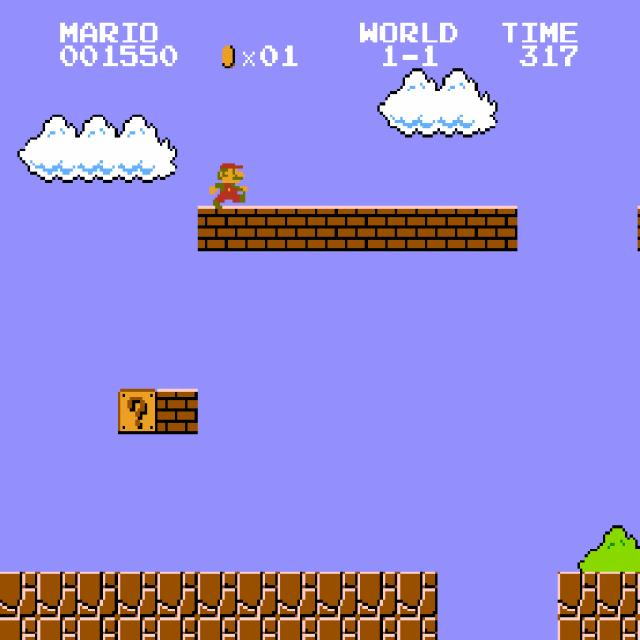brick_block: (157, 389, 198, 434), (197, 206, 238, 251), (237, 206, 278, 251), (277, 206, 318, 251), (317, 206, 358, 251), (357, 206, 398, 251), (397, 206, 438, 251), (437, 206, 478, 251), (477, 206, 518, 251), (637, 205, 640, 251)
little_mario: (207, 160, 250, 208)
mystery_block: (117, 389, 158, 434)
undestructible_block: (37, 572, 78, 617), (77, 572, 118, 617), (117, 572, 158, 617), (157, 572, 198, 617), (197, 572, 238, 617), (237, 572, 278, 617), (277, 572, 318, 617), (317, 572, 358, 617), (357, 572, 398, 617), (397, 572, 438, 617), (557, 572, 598, 617), (597, 572, 638, 617), (0, 572, 37, 617), (37, 617, 78, 640), (77, 617, 118, 640), (117, 617, 158, 640), (157, 617, 198, 640), (197, 617, 238, 640), (237, 617, 278, 640), (277, 617, 318, 640), (317, 617, 358, 640), (357, 617, 398, 640), (397, 617, 438, 640), (557, 617, 598, 640), (597, 617, 638, 640), (0, 617, 37, 640), (637, 571, 640, 617), (637, 617, 640, 639)
